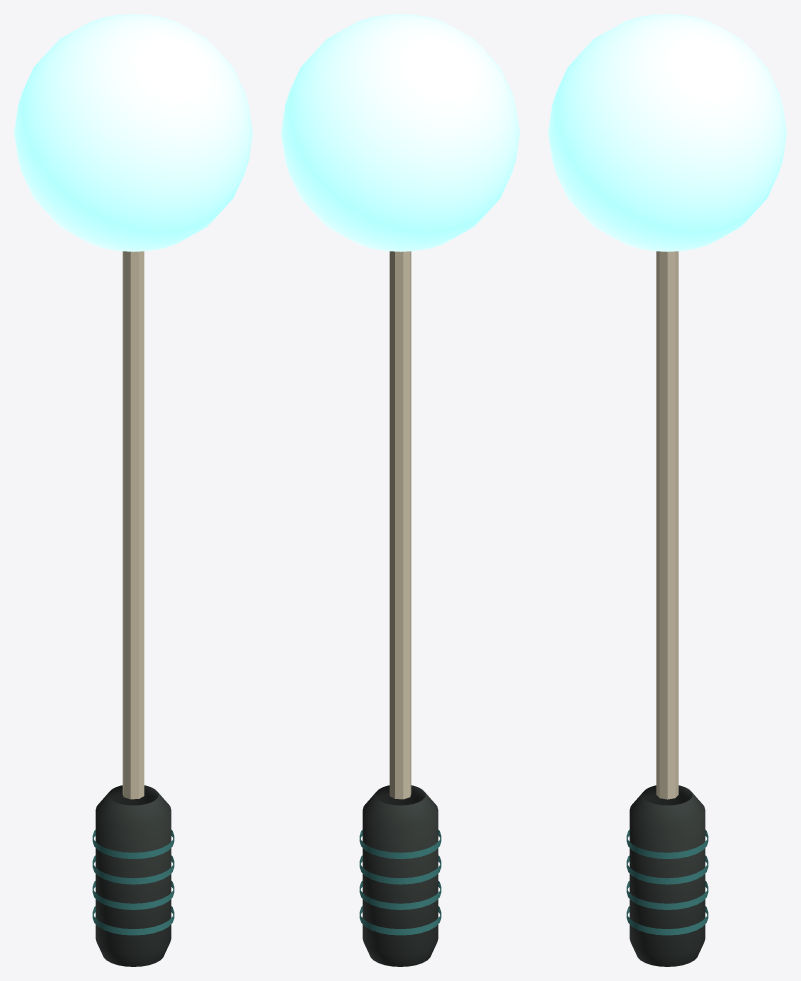
File: AH01_PoiLED.fbx
3 views of the same model, side by side, from view 1: azimuth 30°, elevation 25°; view 2: azimuth 150°, elevation 25°; view 3: azimuth 270°, elevation 25° (orthographic).
Parts seen in each view (by area): view 1: AH01_LEDHead, AH01_LEDTether, AH01_LEDHandle, AH01_LEDGripRib, AH01_LEDGripRib.002, AH01_LEDGripRib.001, AH01_LEDGripRib.003; view 2: AH01_LEDHead, AH01_LEDTether, AH01_LEDHandle, AH01_LEDGripRib, AH01_LEDGripRib.002, AH01_LEDGripRib.001, AH01_LEDGripRib.003; view 3: AH01_LEDHead, AH01_LEDTether, AH01_LEDHandle, AH01_LEDGripRib, AH01_LEDGripRib.002, AH01_LEDGripRib.001, AH01_LEDGripRib.003.
Part boxes in pixels (left/top/right/bottom): AH01_LEDHead: left=14, top=14, right=252, bottom=251; AH01_LEDTether: left=122, top=251, right=144, bottom=799; AH01_LEDHandle: left=95, top=785, right=171, bottom=966; AH01_LEDGripRib: left=92, top=906, right=174, bottom=935; AH01_LEDGripRib.002: left=92, top=855, right=174, bottom=884; AH01_LEDGripRib.001: left=92, top=881, right=174, bottom=909; AH01_LEDGripRib.003: left=92, top=830, right=174, bottom=858; AH01_LEDHead: left=281, top=14, right=519, bottom=251; AH01_LEDTether: left=389, top=251, right=411, bottom=799; AH01_LEDHandle: left=362, top=785, right=438, bottom=966; AH01_LEDGripRib: left=359, top=906, right=441, bottom=935; AH01_LEDGripRib.002: left=359, top=855, right=441, bottom=884; AH01_LEDGripRib.001: left=359, top=881, right=441, bottom=909; AH01_LEDGripRib.003: left=359, top=830, right=441, bottom=858; AH01_LEDHead: left=548, top=14, right=786, bottom=251; AH01_LEDTether: left=656, top=251, right=678, bottom=799; AH01_LEDHandle: left=629, top=785, right=705, bottom=966; AH01_LEDGripRib: left=626, top=906, right=708, bottom=935; AH01_LEDGripRib.002: left=626, top=855, right=708, bottom=884; AH01_LEDGripRib.001: left=626, top=881, right=708, bottom=909; AH01_LEDGripRib.003: left=626, top=830, right=708, bottom=858.
Bounding box in the file's own units: 17 × 73 × 17.
